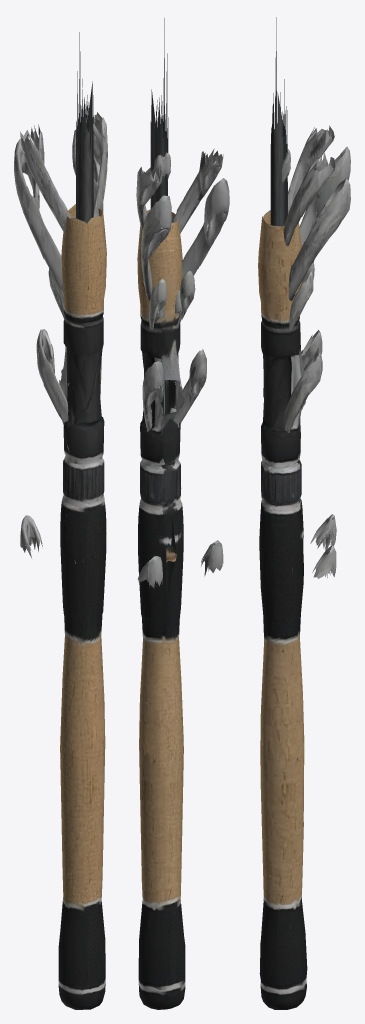
File: meshy_rod_player.glb
3 renders of one model, left to right at view 1: azimuth 30°, elevation 25°; view 2: azimuth 210°, elevation 25°; view 3: azimuth 270°, elevation 25°, orthographic.
Parts seen in each view (by area): view 1: Handle, Seg2, Seg4, Seg0, Seg6, Seg5, Seg1, Seg7, Seg3; view 2: Handle, Seg2, Seg4, Seg6, Seg0, Seg5, Seg7, Seg9, Seg1, Seg8; view 3: Handle, Seg2, Seg4, Seg6, Seg0, Seg5, Seg7, Seg1.
Part boxes in pixels (<box>): Handle: <box>58,204,106,1009</box>; Seg2: <box>14,32,103,293</box>; Seg4: <box>20,102,107,245</box>; Seg0: <box>75,71,94,562</box>; Seg6: <box>36,95,101,427</box>; Seg5: <box>20,105,106,558</box>; Seg1: <box>76,95,93,224</box>; Seg7: <box>48,131,83,318</box>; Seg3: <box>78,105,91,160</box>; Handle: <box>137,209,185,1009</box>; Seg2: <box>141,18,229,592</box>; Seg4: <box>136,115,223,233</box>; Seg6: <box>142,97,206,431</box>; Seg0: <box>150,53,176,561</box>; Seg5: <box>137,108,223,588</box>; Seg7: <box>149,271,195,330</box>; Seg9: <box>154,152,176,427</box>; Seg1: <box>150,101,167,596</box>; Seg8: <box>154,111,182,323</box>; Handle: <box>258,210,307,1009</box>; Seg2: <box>271,17,350,620</box>; Seg4: <box>272,92,335,245</box>; Seg6: <box>273,104,322,432</box>; Seg0: <box>263,79,287,553</box>; Seg5: <box>274,111,336,578</box>; Seg7: <box>289,261,314,329</box>; Seg1: <box>271,93,286,197</box>.
Bounding box in the file's own units: 0.0624 × 0.728 × 0.0621.
Materials: 1 (1 with a texture image).
